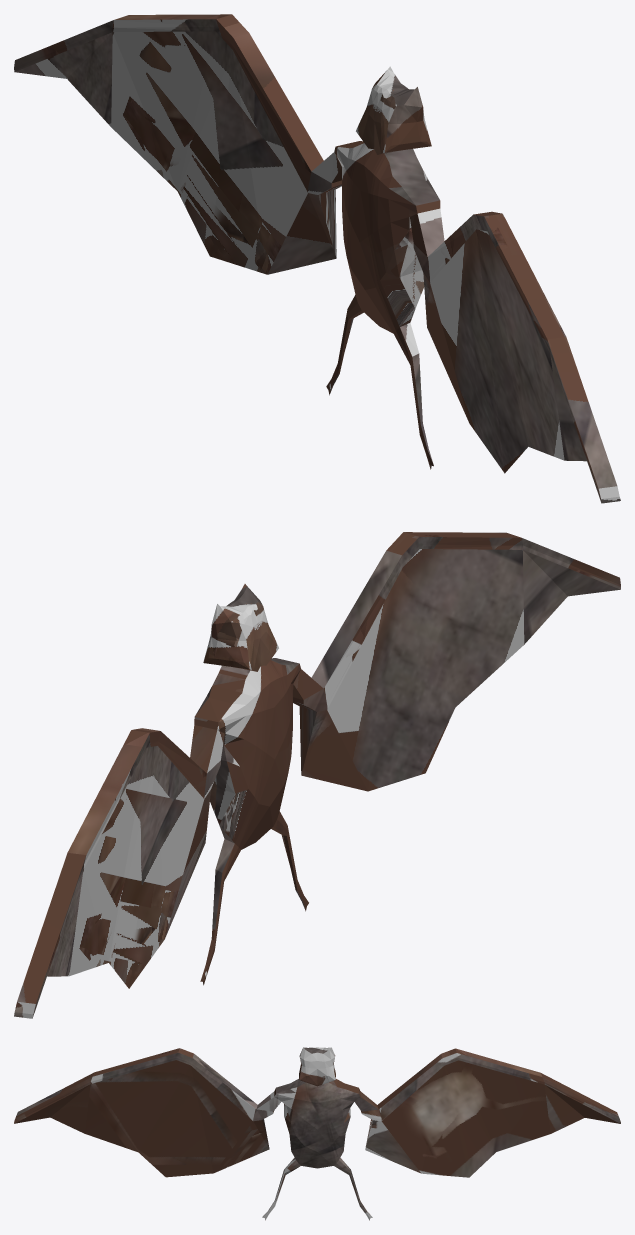
The model's file is Enemigo13.obj.
3 views of the same model, one above another, from view 1: azimuth 30°, elevation 25°; view 2: azimuth 150°, elevation 25°; view 3: azimuth 270°, elevation 25° (orthographic). The views are drawn at different scales.
Parts seen in each view (by area): view 1: Plano; view 2: Plano; view 3: Plano.
Boxes of the visible parts, x1=… form: Plano: x1=14, y1=14, x2=620, y2=503; Plano: x1=14, y1=532, x2=620, y2=1018; Plano: x1=14, y1=1047, x2=620, y2=1220.
Size of the model in its own units: 0.2504 by 0.7578 by 2.32.
1 material, 1 textured.
